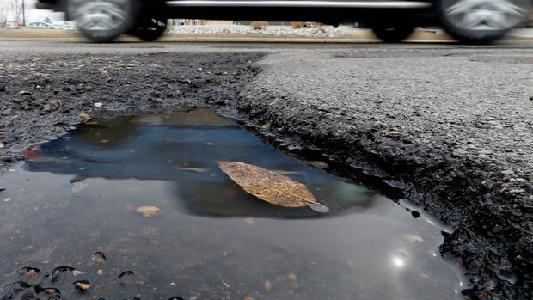pothole: (1, 50, 531, 300)
